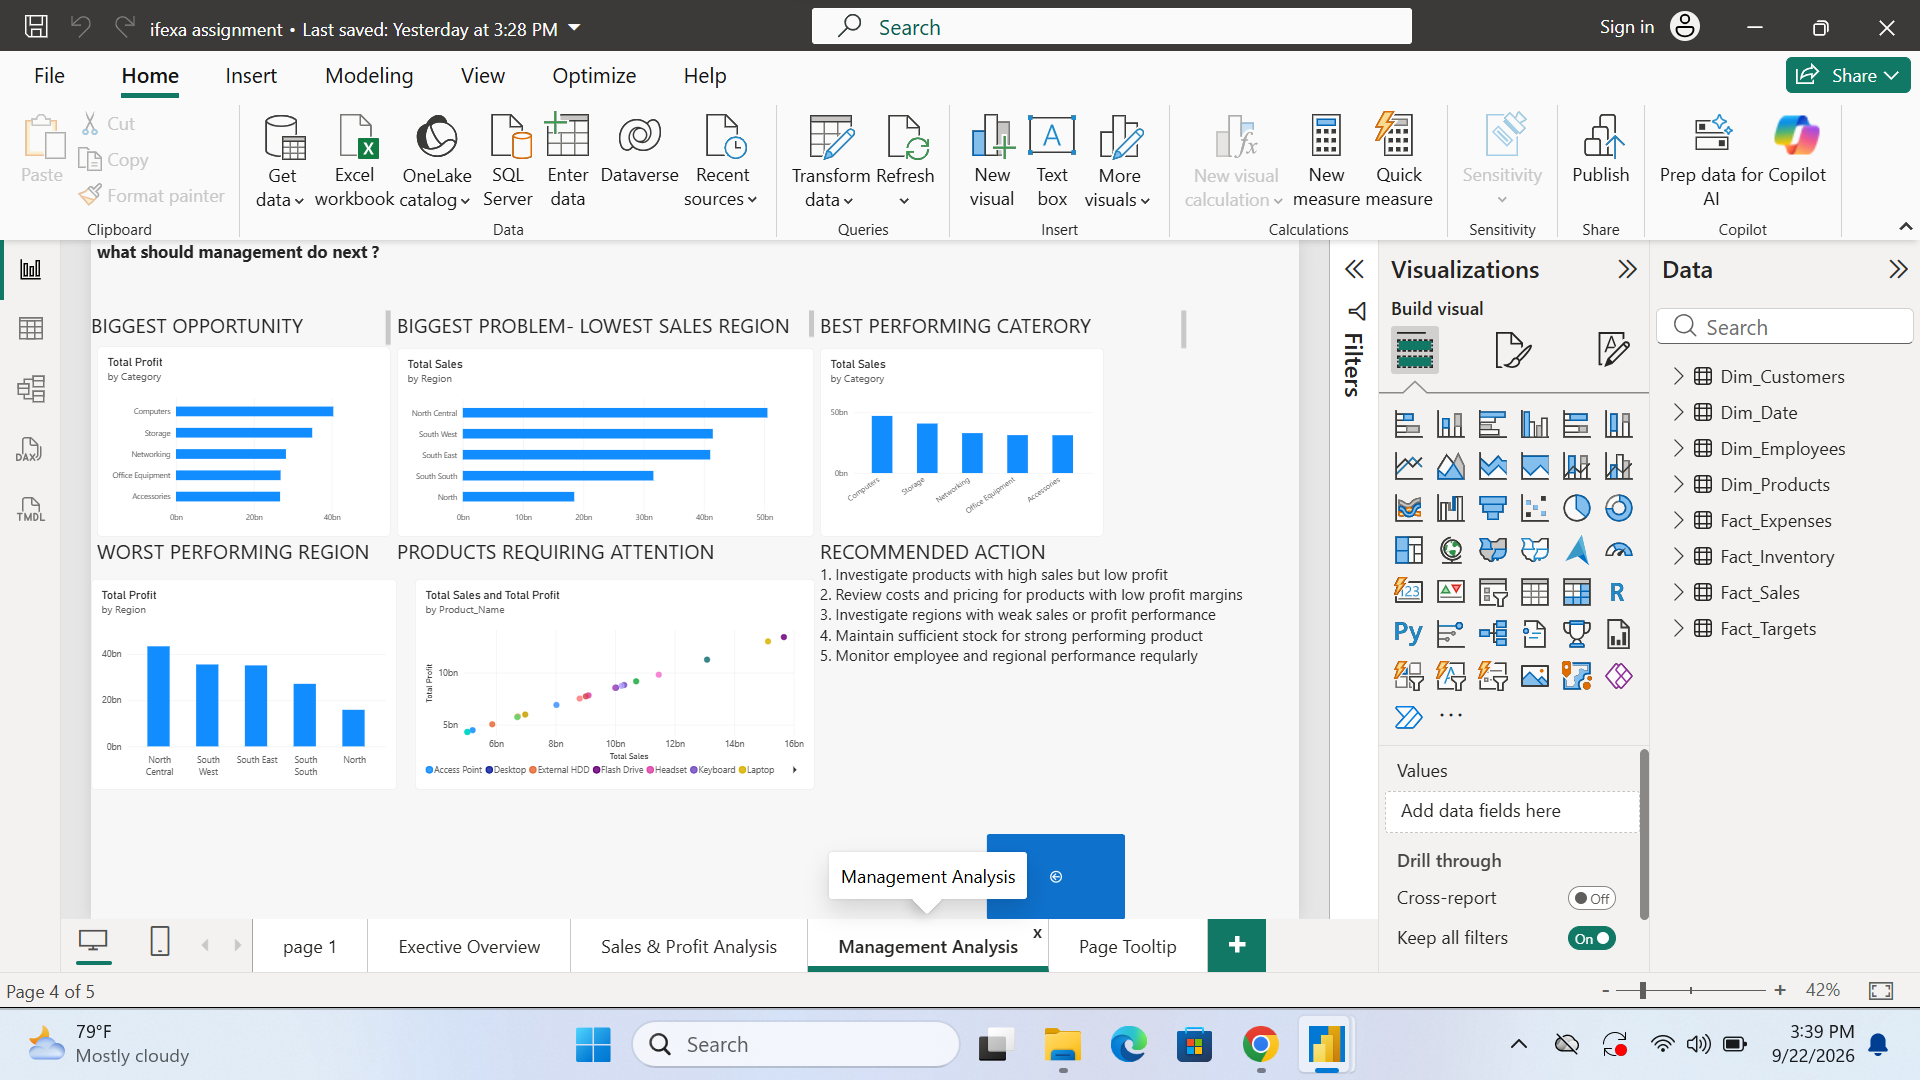

Layout of this report page (visuals, bound fields, positions):
{"tool":"powerbi","page":{"name":"Management Analysis ","canvas":[1920,1080],"ordinal":3},"visuals":[{"type":"textbox","box":[10.1,0,870.4,88.3],"z":0},{"type":"clusteredBarChart","fields":{"Category":["Dim_Products.Category"],"Y":["Dim_Customers.Total Profit"]},"box":[10.1,169,466.8,302.8],"z":1000},{"type":"textbox","box":[0,111,476.8,58],"z":2000},{"type":"textbox","box":[486.9,111,663.5,58],"z":3000},{"type":"clusteredBarChart","fields":{"Category":["Dim_Employees.Region"],"Y":["Dim_Customers.Total Sales"]},"box":[486.9,171.6,663.5,300.2],"z":4000},{"type":"textbox","box":[1160.6,111,582.8,60.6],"z":5000},{"type":"clusteredColumnChart","fields":{"Category":["Dim_Products.Category"],"Y":["Dim_Customers.Total Sales"]},"box":[1160.6,171.6,451.6,300.2],"z":6000},{"type":"textbox","box":[10.1,471.8,466.8,68.1],"z":7000},{"type":"clusteredColumnChart","fields":{"Category":["Dim_Employees.Region"],"Y":["Dim_Customers.Total Profit"]},"box":[0,539.9,486.9,335.6],"z":8000},{"type":"textbox","box":[486.9,471.8,663.5,148.9],"z":9000},{"type":"scatterChart","fields":{"Series":["Dim_Products.Product_Name"],"X":["Dim_Customers.Total Sales"],"Y":["Dim_Customers.Total Profit"]},"box":[514.7,539.9,635.8,335.6],"z":10000},{"type":"textbox","box":[1160.6,471.8,729.1,572.7],"z":11000},{"type":"actionButton","box":[1424.6,944.6,220.7,136],"z":12000}]}

Visuals, with their boxes on the page's 1920x1080 design canvas (x1, y1, x2, y2). These are canvas units, not pixel positions in the 1920x1080 screenshot, which may show the page scaled, cropped or inside an application window:
textbox: (x1=10, y1=0, x2=880, y2=88)
clusteredBarChart - Dim_Products.Category x Dim_Customers.Total Profit: (x1=10, y1=169, x2=477, y2=472)
textbox: (x1=0, y1=111, x2=477, y2=169)
textbox: (x1=487, y1=111, x2=1150, y2=169)
clusteredBarChart - Dim_Employees.Region x Dim_Customers.Total Sales: (x1=487, y1=172, x2=1150, y2=472)
textbox: (x1=1161, y1=111, x2=1743, y2=172)
clusteredColumnChart - Dim_Products.Category x Dim_Customers.Total Sales: (x1=1161, y1=172, x2=1612, y2=472)
textbox: (x1=10, y1=472, x2=477, y2=540)
clusteredColumnChart - Dim_Employees.Region x Dim_Customers.Total Profit: (x1=0, y1=540, x2=487, y2=876)
textbox: (x1=487, y1=472, x2=1150, y2=621)
scatterChart - Dim_Products.Product_Name x Dim_Customers.Total Sales: (x1=515, y1=540, x2=1150, y2=876)
textbox: (x1=1161, y1=472, x2=1890, y2=1044)
actionButton: (x1=1425, y1=945, x2=1645, y2=1081)
